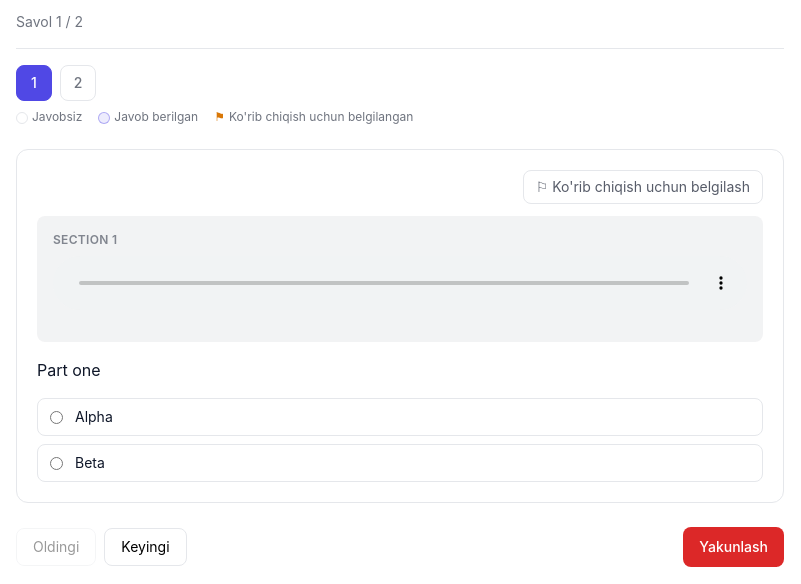
Test: AttemptPage — Task 3 question-group media › switches to the next group's audio when the group changes
This screenshot has width=801, height=584.
Click the button "Keyingi" at (145, 547), box [104,528,187,566]
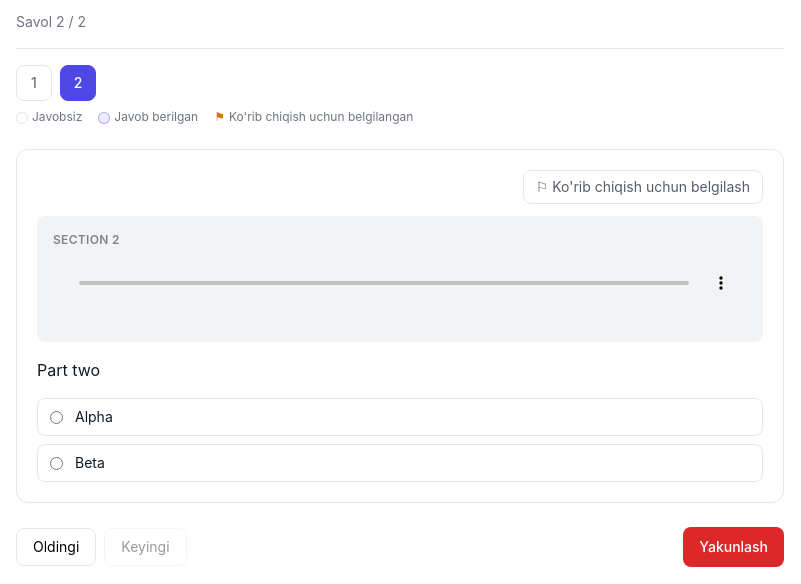
Now the text "Part two" is shown, box [37,360,100,380]
Now the element with test id "group-stimulus" shows "Section 2", box [53,232,120,247]
